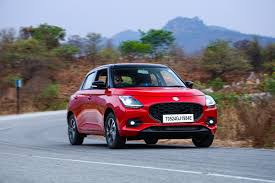Swift: (66, 62, 218, 148)
